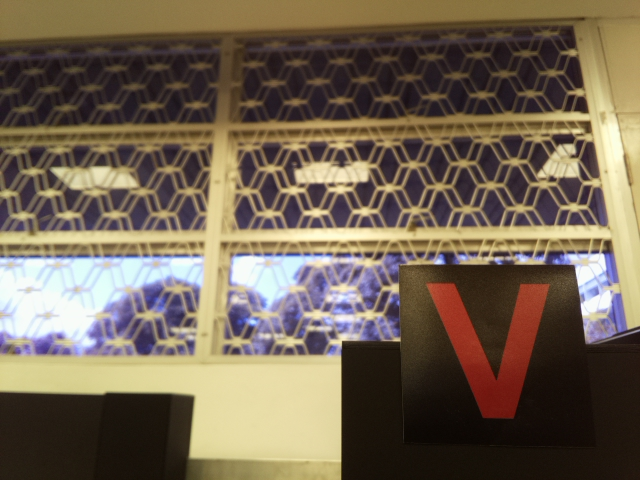v: (415, 278, 560, 423)
